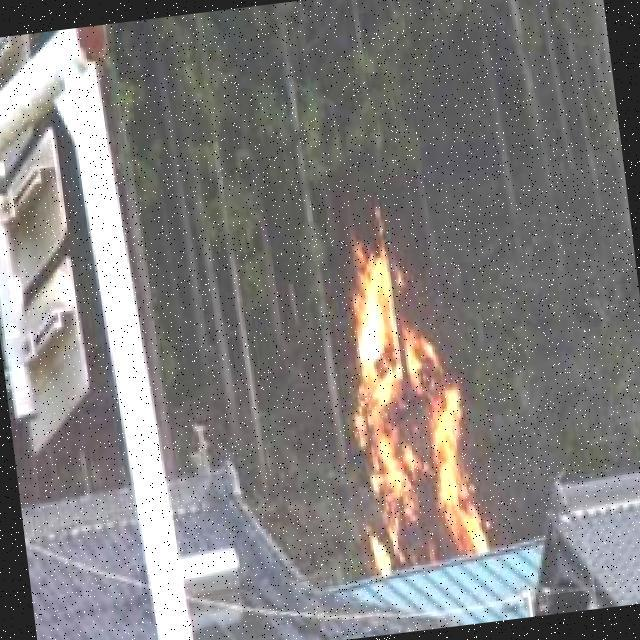Fire: (315, 234, 489, 578)
